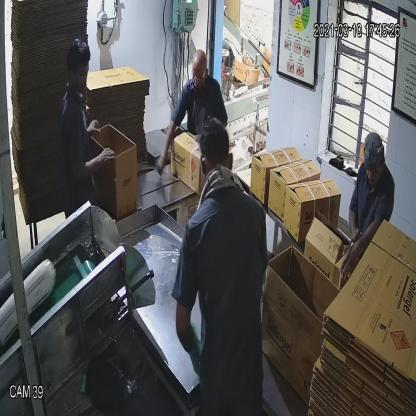no_glove: (336, 226, 387, 290), (151, 112, 186, 182), (67, 148, 119, 181)
